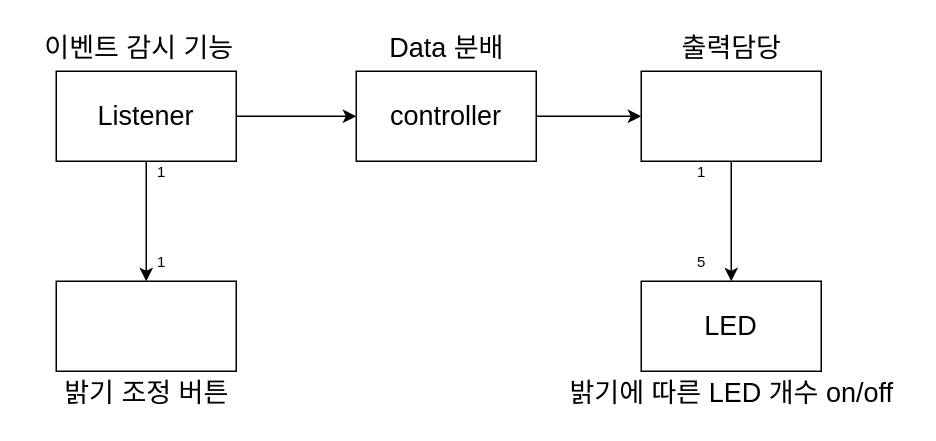
This 936x441 diagram has some shape labels left out. The shapes that lost their labels are listed below. From the top down, each one's box as (x1, y1, x2, y2) in pixels, then its label:
(640, 70, 821, 161): View
(55, 280, 236, 371): Button
